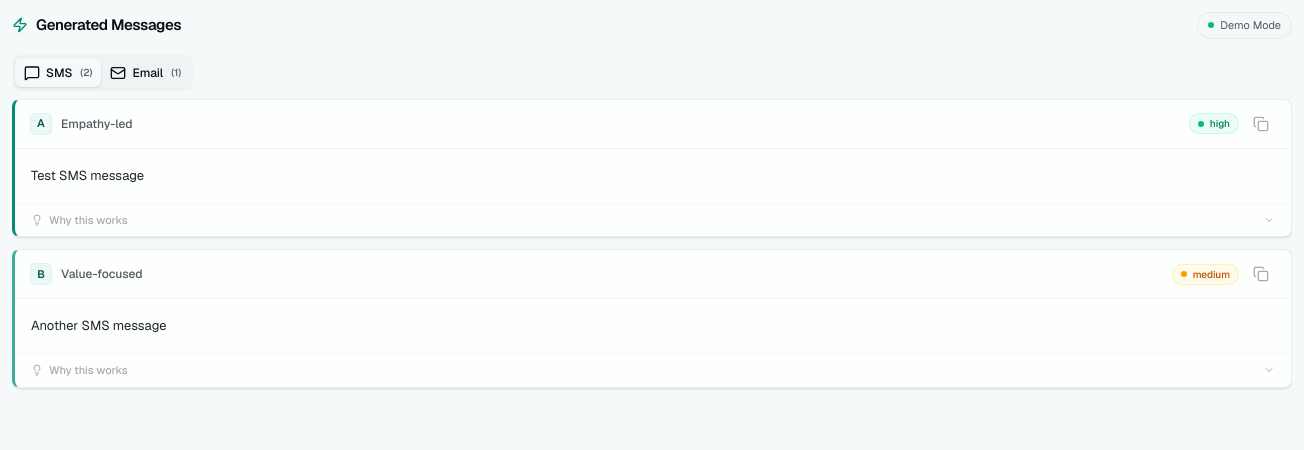
Test: MessageOutput › renders reasoning toggle that expands
Expected: the text "This is the reasoning for SMS variant A" is not shown
Click to expand first variant's reasoning
Click the button "Why this works" below "Test SMS message": (88, 220) x1=15 y1=204 x2=1291 y2=236
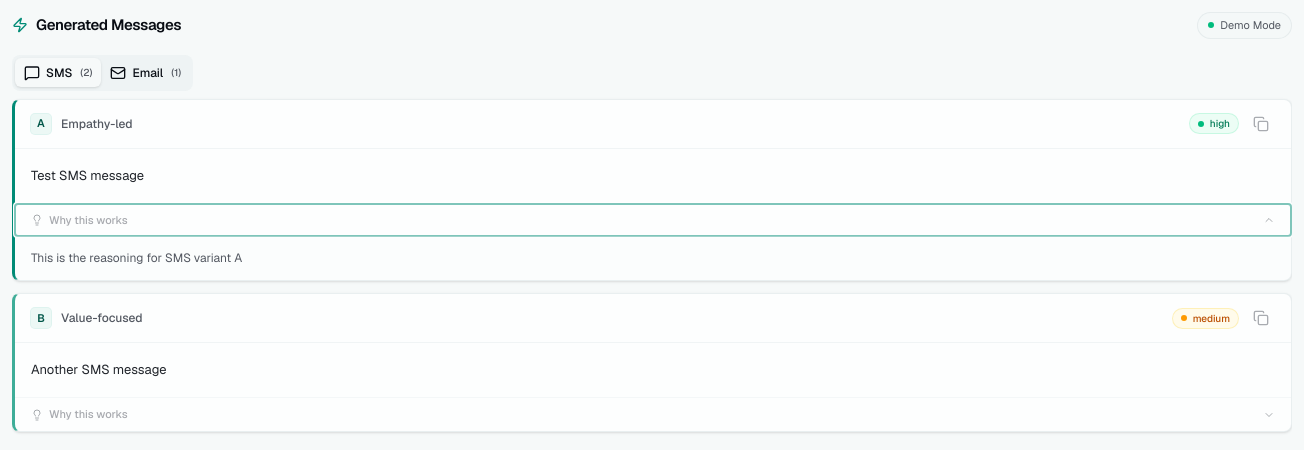
Now the text "This is the reasoning for SMS variant A" is shown, box x1=31 y1=250 x2=242 y2=266
